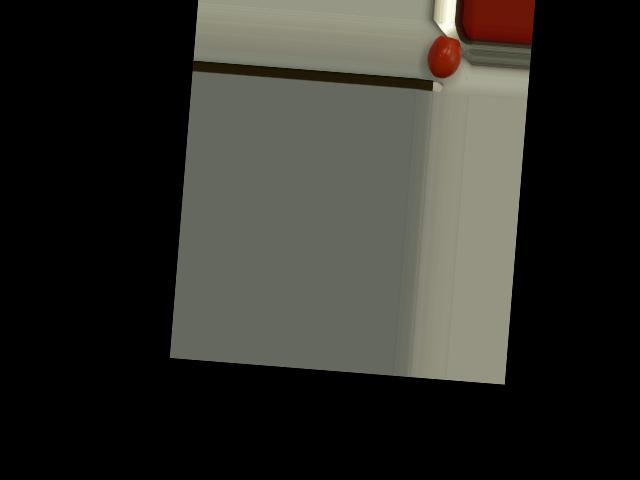tomato: (425, 34, 463, 79)
